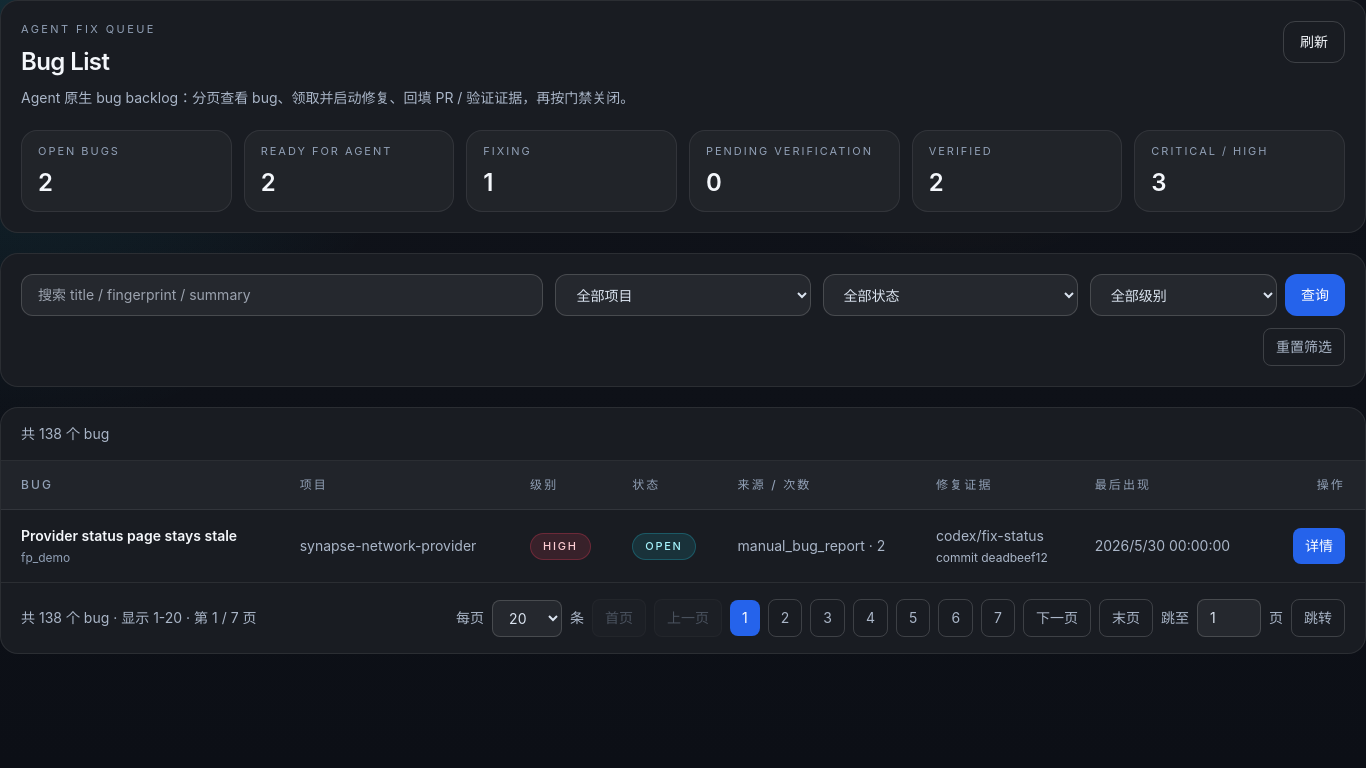
Test case: BugsPage › opens detail modal with workflow and close readiness state
Click the button "详情": (1319, 546) [1293,528,1345,564]
(page scrolled)
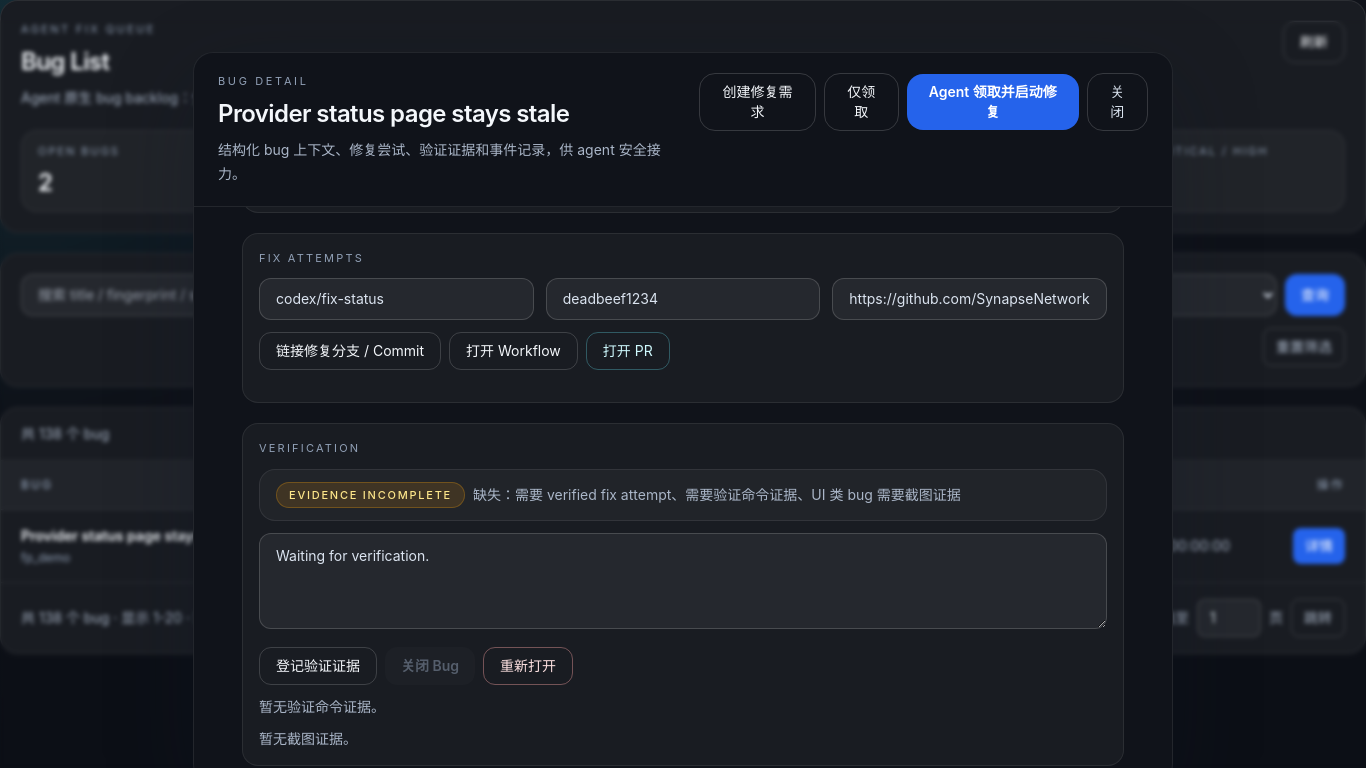
Check: the link "打开 Workflow" is shown, box [449,332,578,370]
Check: the text "Evidence incomplete" is shown, box [276,482,465,508]
